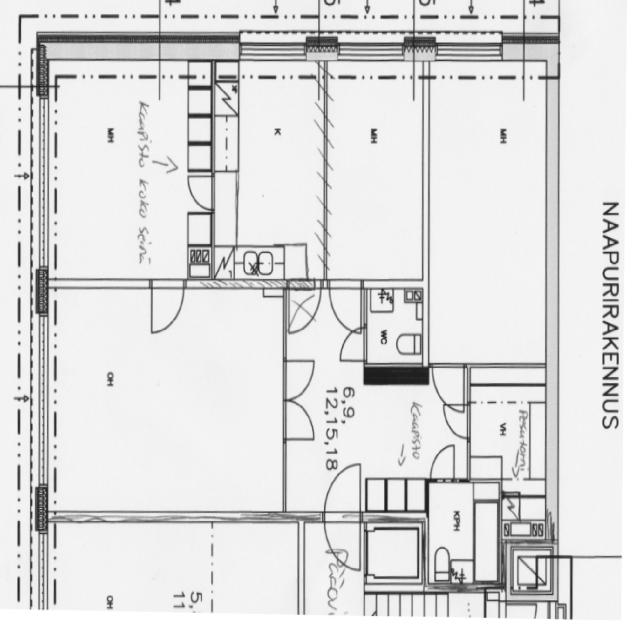door: (324, 511, 360, 573), (324, 461, 360, 522), (152, 279, 184, 333), (432, 364, 464, 411), (283, 361, 314, 401), (283, 400, 314, 440), (444, 405, 471, 439), (430, 445, 454, 483), (339, 328, 366, 361)
